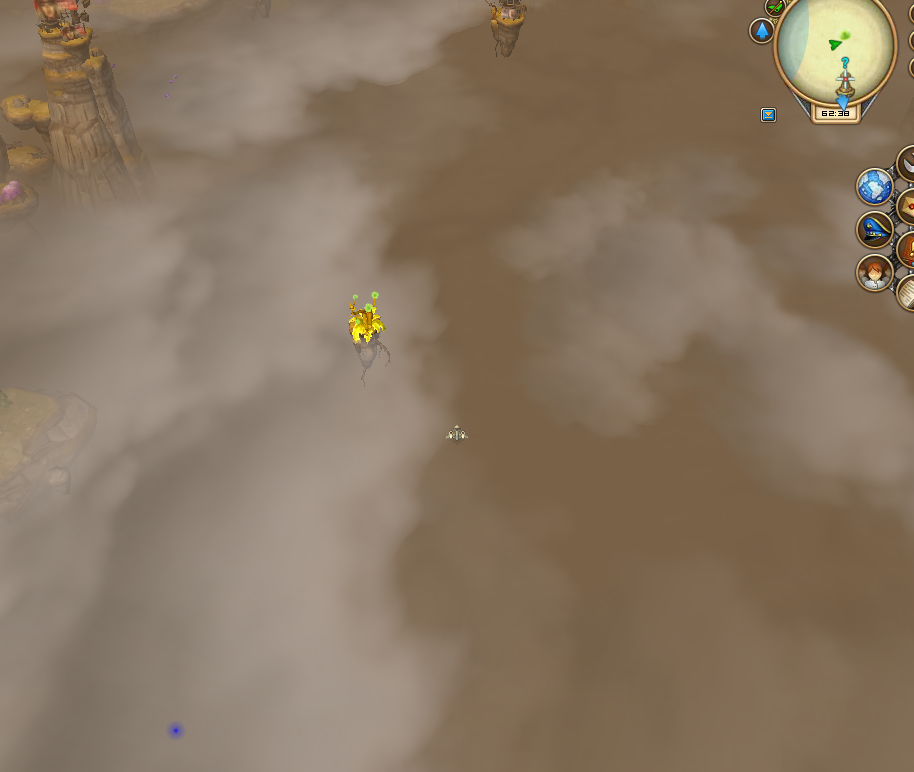dandelion-full: (343, 289, 388, 353)
